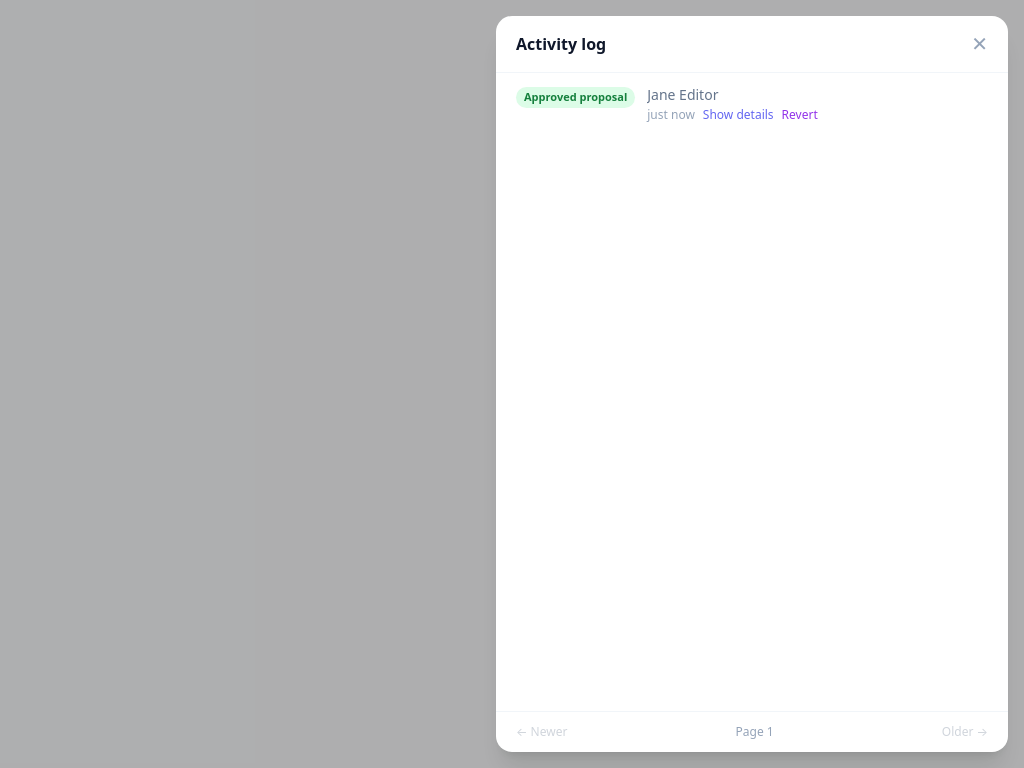
Test: AuditLogModal — revert an approved change request › shows the server error and keeps the confirm panel open on failure
The width and height of the screenshot is (1024, 768).
Click the button "Revert" at (800, 115), box [782,107,818,123]
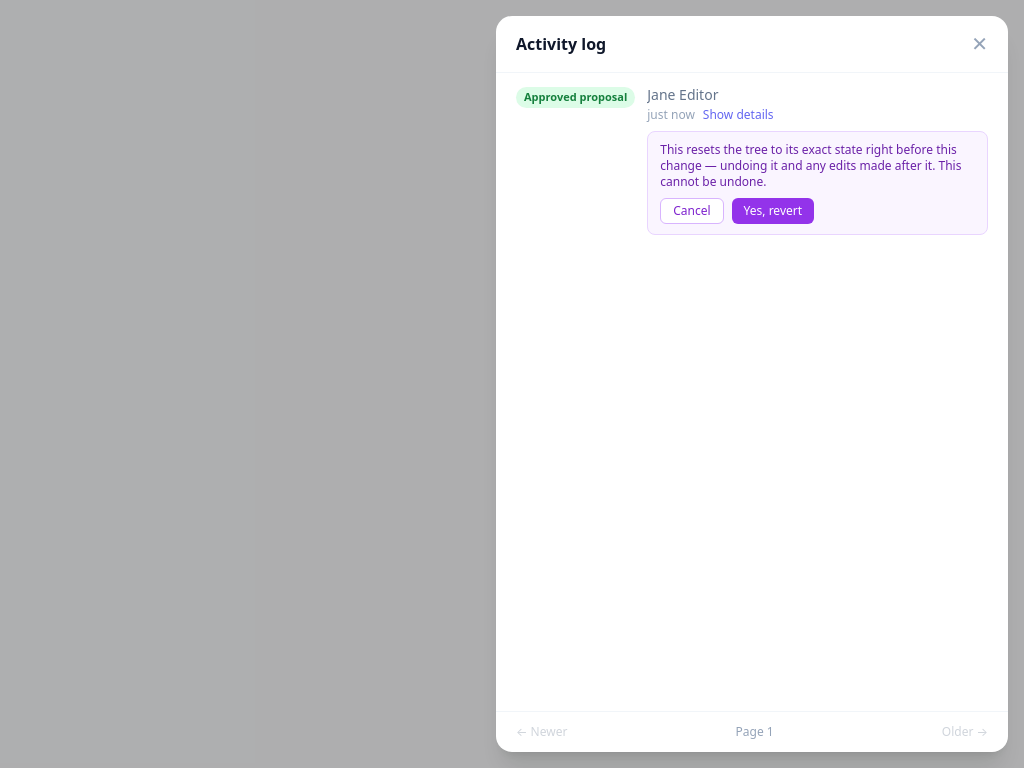
Click the button "Yes, revert" at (773, 211), box [732,198,814,224]
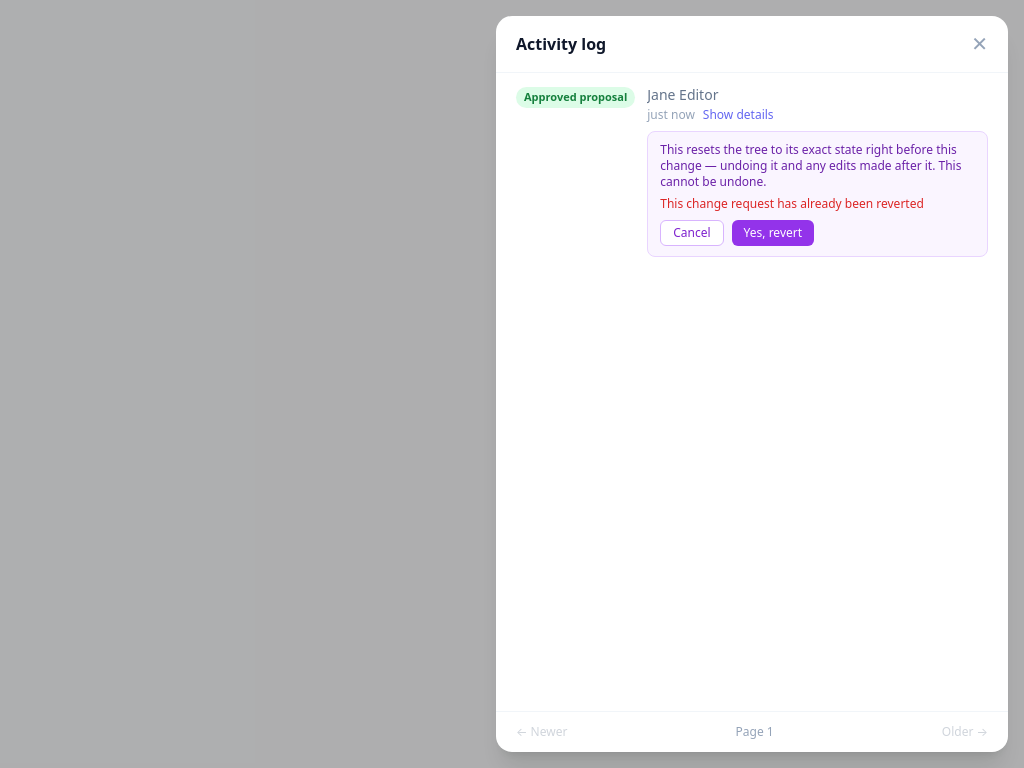
Check: the button "Yes, revert" is shown, box [732,220,814,246]
Check: the text "This change request has already been reverted" is shown, box [660,195,924,212]
